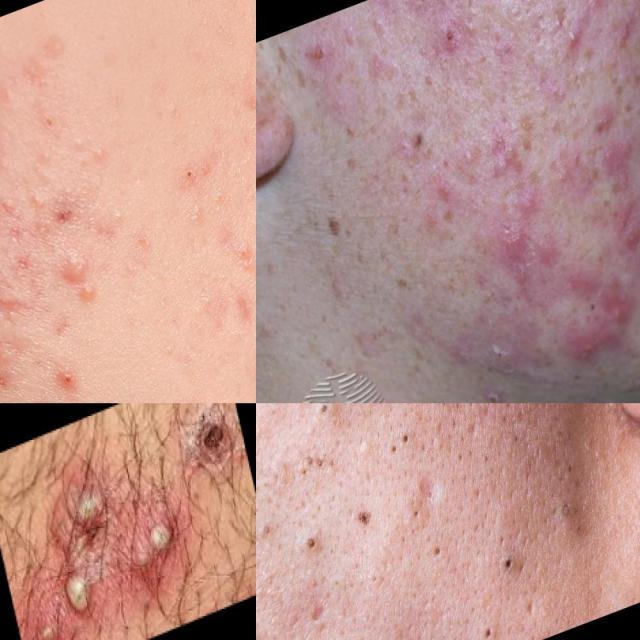Pimples: (286, 506, 350, 584), (480, 121, 534, 195), (589, 130, 640, 198), (436, 6, 480, 81), (566, 325, 618, 385), (61, 478, 113, 538), (490, 216, 541, 277), (58, 271, 109, 325), (554, 252, 602, 306), (0, 276, 41, 338), (142, 506, 186, 563), (599, 270, 640, 328), (61, 563, 100, 618), (378, 418, 420, 467), (417, 522, 459, 571), (605, 0, 640, 55), (30, 597, 72, 640), (300, 439, 336, 486), (548, 482, 588, 524), (125, 530, 158, 577), (496, 532, 524, 578), (469, 613, 502, 640)
